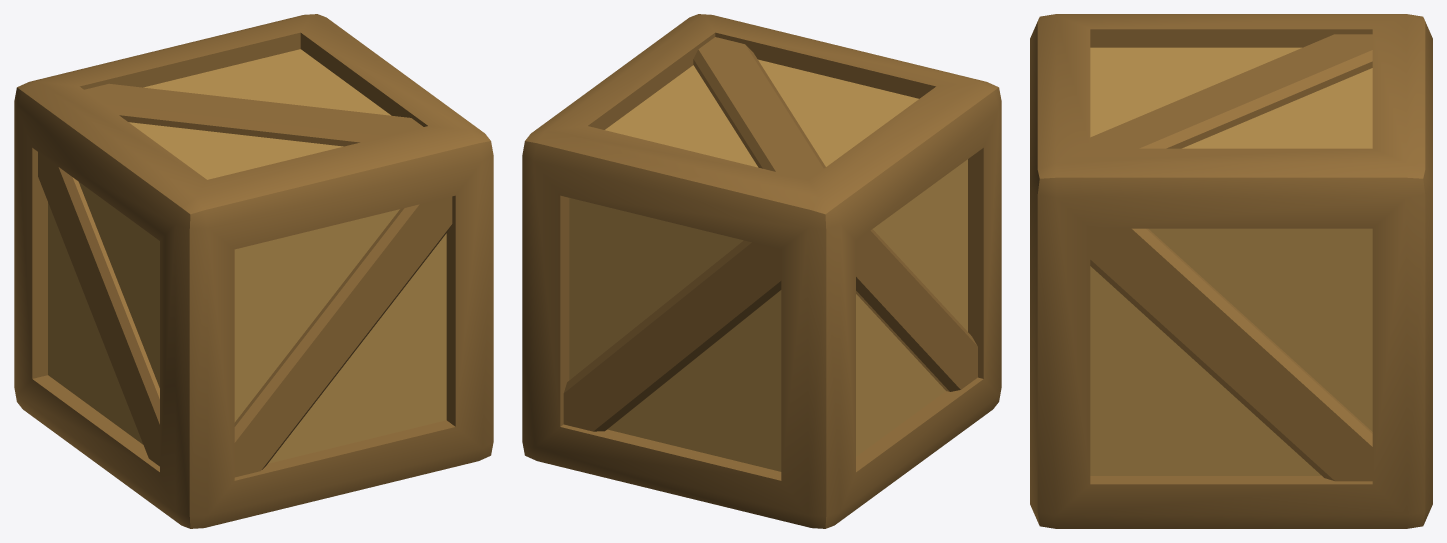
File: Crate.glb
3 renders of one model, left to right at view 1: azimuth 30°, elevation 25°; view 2: azimuth 150°, elevation 25°; view 3: azimuth 270°, elevation 25°, orthographic. The views are drawn at different scales.
Parts seen in each view (by area): view 1: Crate; view 2: Crate; view 3: Crate.
Part boxes in pixels (x1,y1,x2,y2): Crate: [14, 14, 493, 528]; Crate: [522, 14, 1001, 528]; Crate: [1030, 14, 1432, 528].
Size of the model in its own units: 0.7898 by 0.7898 by 0.7898.
